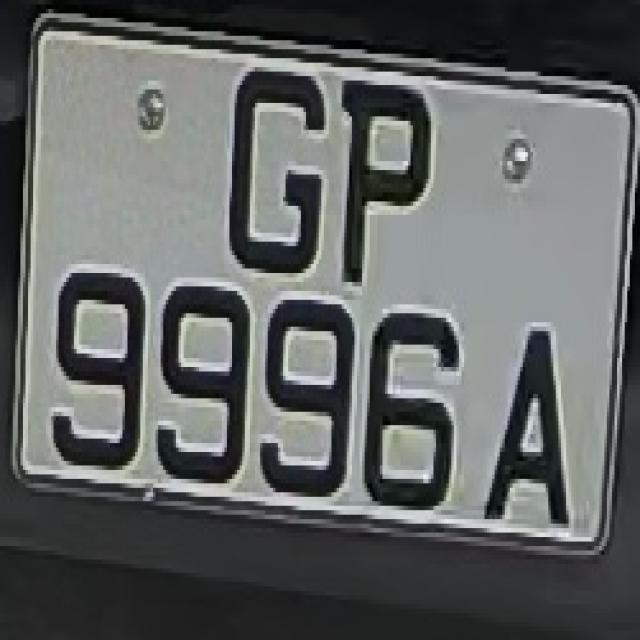6: (365, 291, 469, 510)
9: (252, 268, 360, 514), (146, 282, 252, 497), (53, 251, 148, 483)
A: (477, 291, 571, 555)
G: (224, 54, 324, 282)
P: (324, 67, 436, 309)
